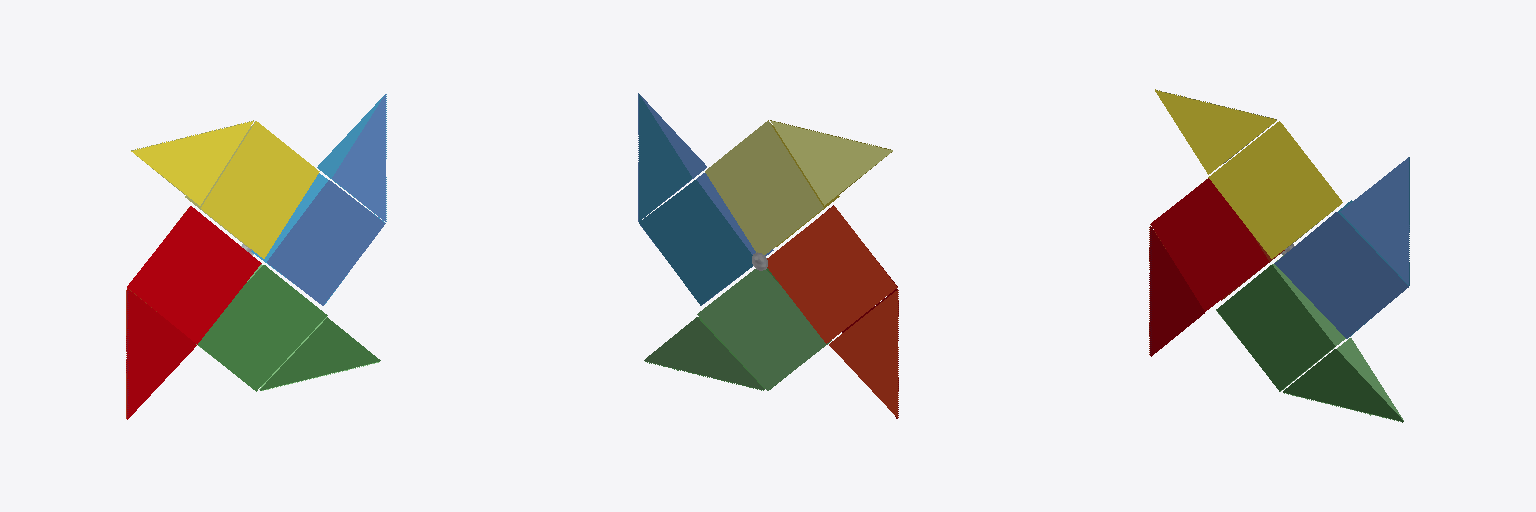
The picture shows the model from 3 angles: view 1: azimuth 30°, elevation 25°; view 2: azimuth 150°, elevation 25°; view 3: azimuth 330°, elevation 25°; orthographic projection.
Parts seen in each view (by area): view 1: 平面.003, 平面.001, 平面.005, 平面.007, 平面.008, 平面.011, 平面.013, 平面.015, 平面.014, 平面.006; view 2: 平面.002, 平面, 平面.004, 平面.006, 平面.010, 平面.009, 平面.012, 平面.014, 平面.015, 平面.007; view 3: 平面.001, 平面.007, 平面.003, 平面.005, 平面.011, 平面.015, 平面.008, 平面.013, 平面.012, 平面.004.
Part boxes in pixels (x1,y1,x2,y2): 平面.003: (127,206,261,344); 平面.001: (201,121,319,258); 平面.005: (198,265,327,391); 平面.007: (267,180,385,305); 平面.008: (126,289,196,419); 平面.011: (131,121,253,205); 平面.013: (260,317,380,390); 平面.015: (332,94,385,221); 平面.014: (317,94,386,221); 平面.006: (251,173,384,303); 平面.002: (767,206,897,343); 平面: (705,121,823,254); 平面.004: (697,269,830,390); 平面.006: (639,180,752,305); 平面.010: (829,290,898,417); 平面.009: (771,121,892,205); 平面.012: (644,317,764,389); 平面.014: (639,94,691,221); 平面.015: (638,93,706,221); 平面.007: (640,173,773,305); 平面.001: (1208,121,1342,258); 平面.007: (1274,212,1408,338); 平面.003: (1151,178,1268,311); 平面.005: (1216,265,1335,391); 平面.011: (1155,89,1276,174); 平面.015: (1340,157,1409,284); 平面.008: (1149,226,1204,356); 平面.013: (1283,349,1403,422); 平面.012: (1284,338,1403,421); 平面.004: (1216,255,1345,391).
Bounding box in the file's own units: 8.59 × 8.59 × 0.62.
Materials: 17 (17 with a texture image).